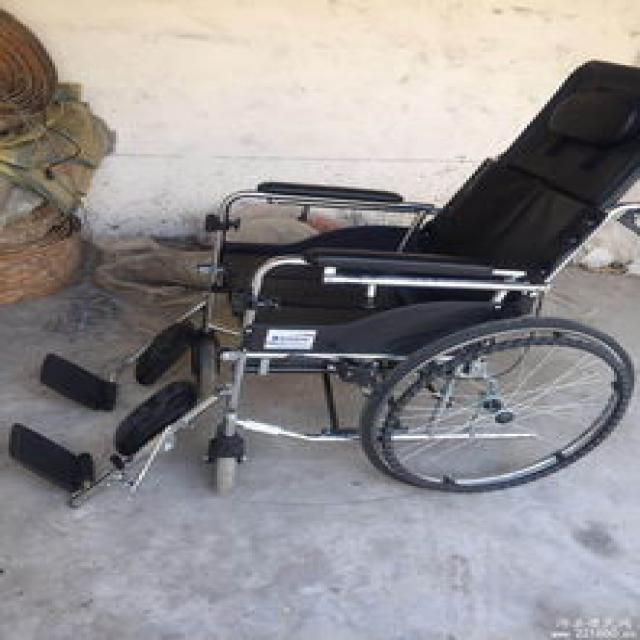wheelchair: (15, 63, 638, 551)
